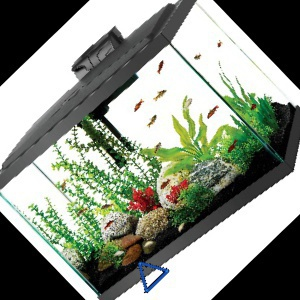triangle: (136, 261, 172, 295)
